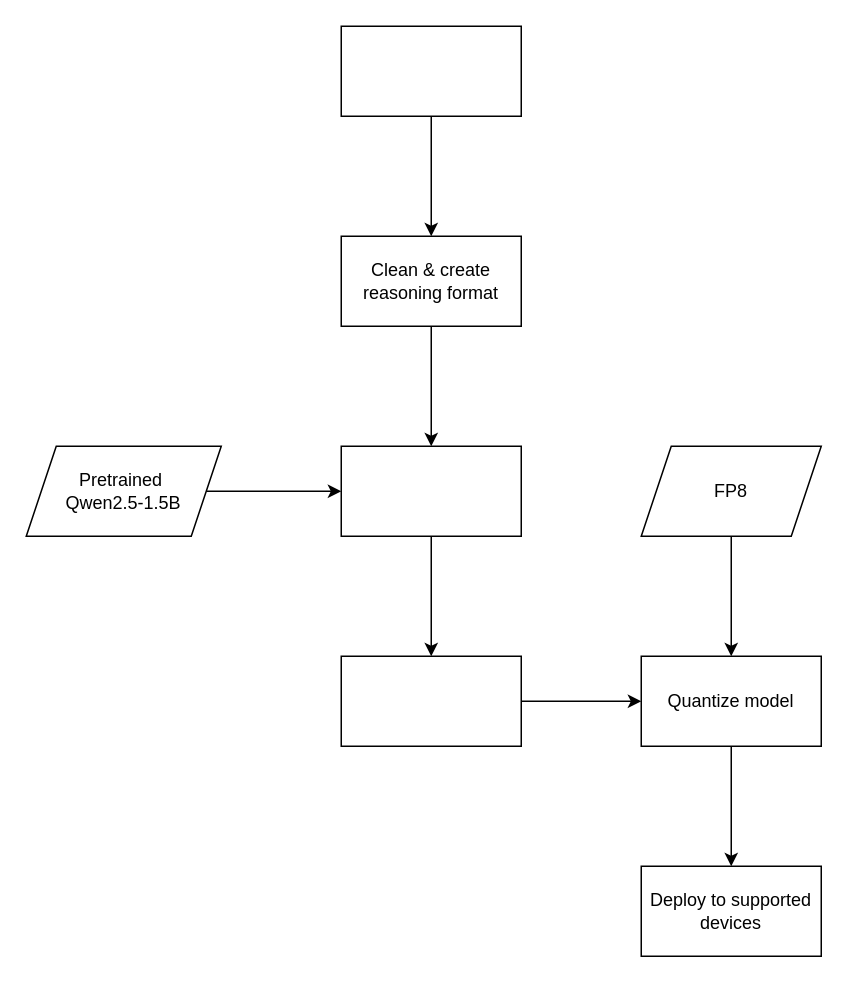
Image size: 848x983. Some labels were removed from this diagram. Here are the shapes that lost their labels. From the top down, the centre of each, then its label:
the point at 430,70: Public datasets, internet crawls
the point at 430,490: Modify the base model to be FP8 compatible
the point at 430,700: Training with FP8
